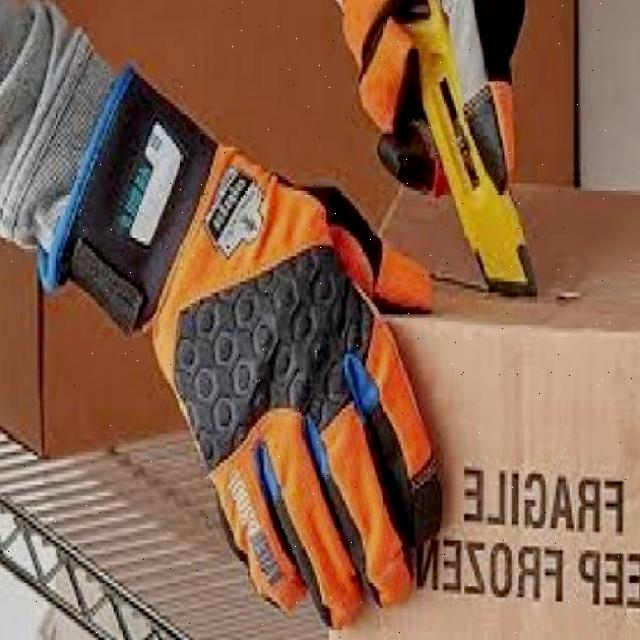Gloves: (40, 70, 440, 628), (339, 0, 447, 193), (440, 0, 524, 192)
